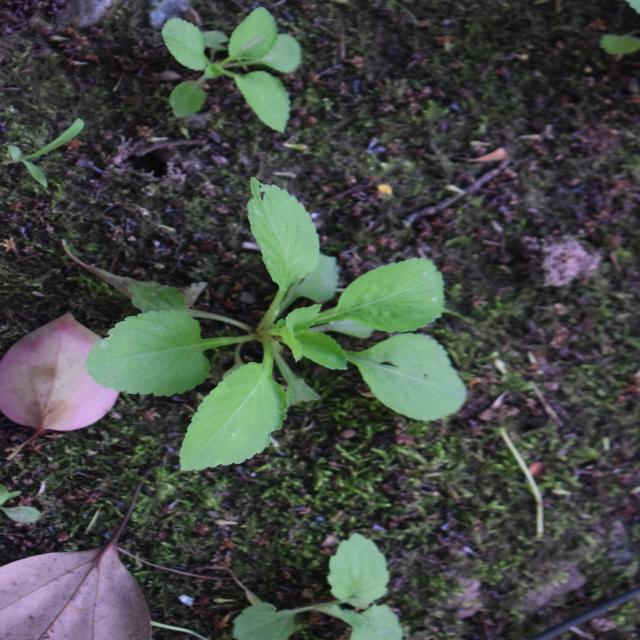Viola: (208, 192, 472, 540)
